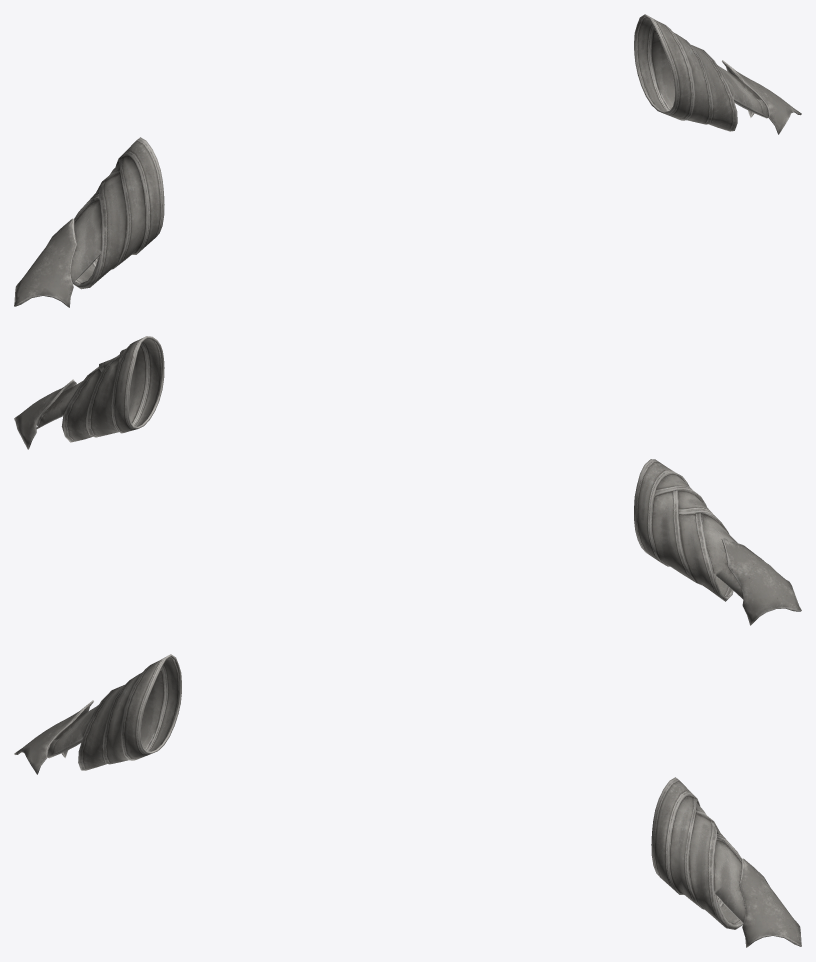
The model's file is rivendell_vambraces_1_silver.fbx.
3 views of the same model, one above another, from view 1: azimuth 30°, elevation 25°; view 2: azimuth 150°, elevation 25°; view 3: azimuth 330°, elevation 25° (orthographic).
Parts seen in each view (by area): view 1: rivendell_vambraces_1_silver; view 2: rivendell_vambraces_1_silver; view 3: rivendell_vambraces_1_silver.
Boxes of the visible parts, <box> form: rivendell_vambraces_1_silver: <box>14,14,801,307</box>; rivendell_vambraces_1_silver: <box>14,336,801,625</box>; rivendell_vambraces_1_silver: <box>14,654,801,947</box>.
Bounding box in the file's own units: 1.45 × 0.1375 × 0.2351.
1 material, 1 textured.
